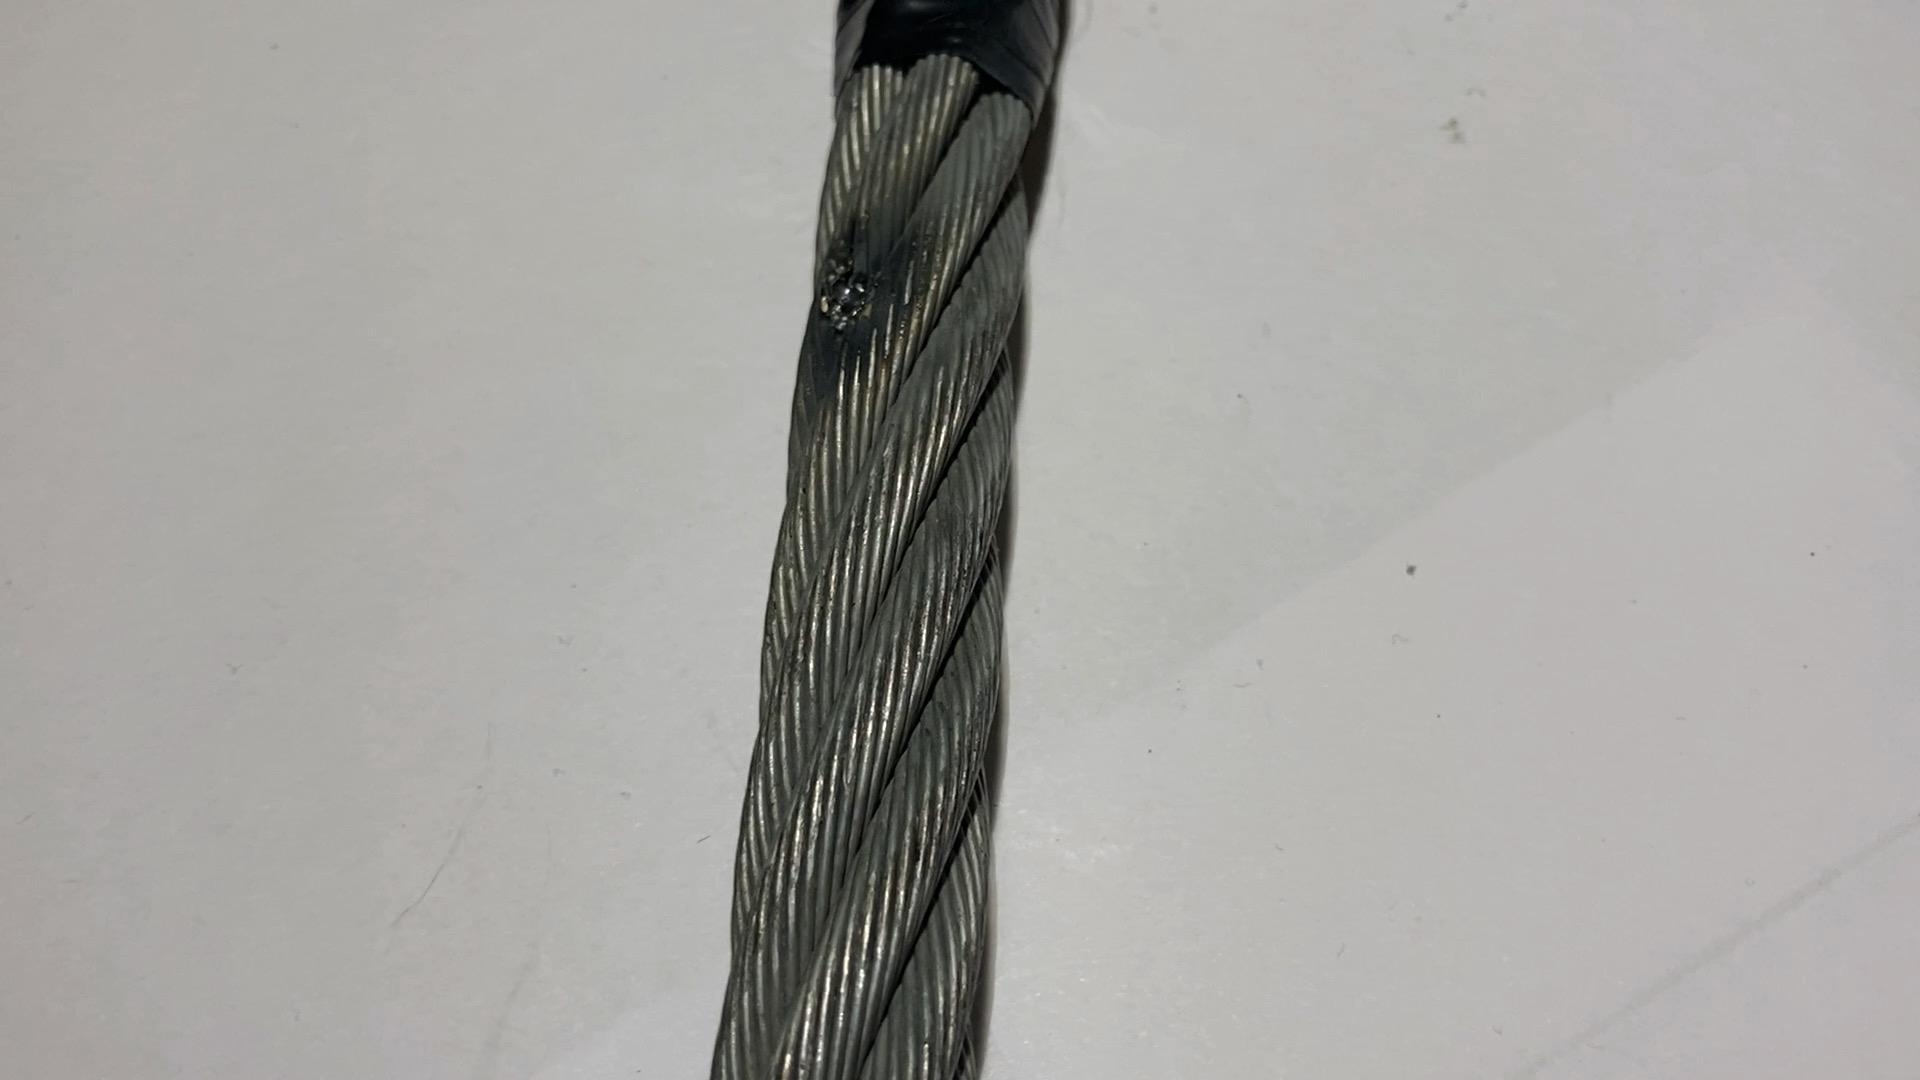thunderbolt: (798, 257, 898, 340)
